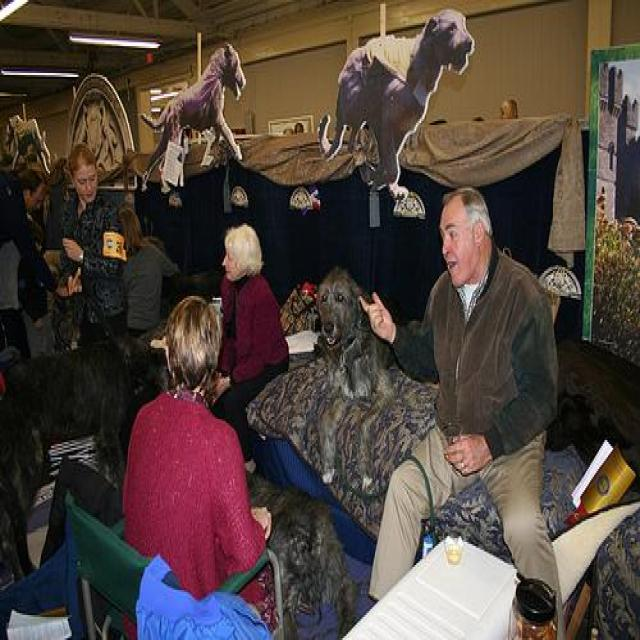irish_wolfhound: (312, 265, 389, 488)
